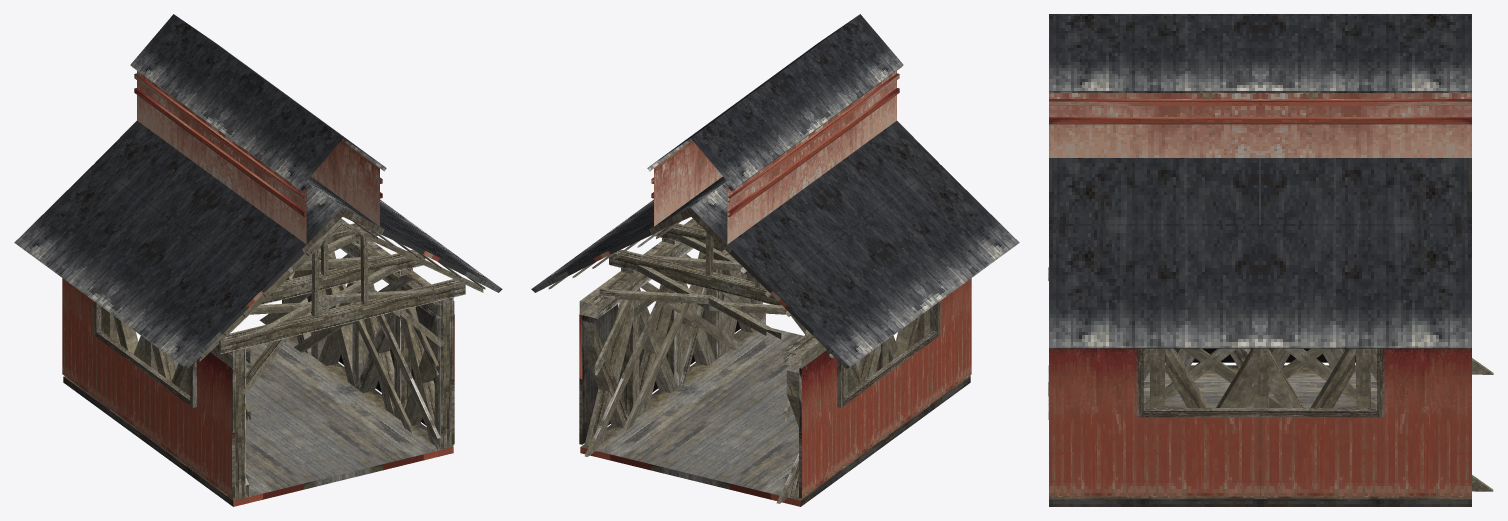
Rendered from 3_b3_seamless.glb.
The picture shows the model from 3 angles, left to right: view 1: azimuth 30°, elevation 25°; view 2: azimuth 150°, elevation 25°; view 3: azimuth 270°, elevation 25°; orthographic projection. The views are drawn at different scales.
Parts seen in each view (by area): view 1: 3_b3_seamless; view 2: 3_b3_seamless; view 3: 3_b3_seamless.
Boxes of the visible parts, x1,y1,x2,y2 form: 3_b3_seamless: [14, 14, 502, 506]; 3_b3_seamless: [531, 14, 1019, 506]; 3_b3_seamless: [1048, 14, 1493, 506].
Size of the model in its own units: 8.69 by 8.91 by 8.43.
Materials: 1 (1 with a texture image).
